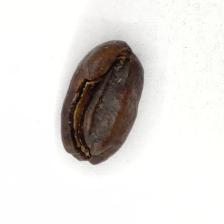NG: (71, 68, 126, 158)
